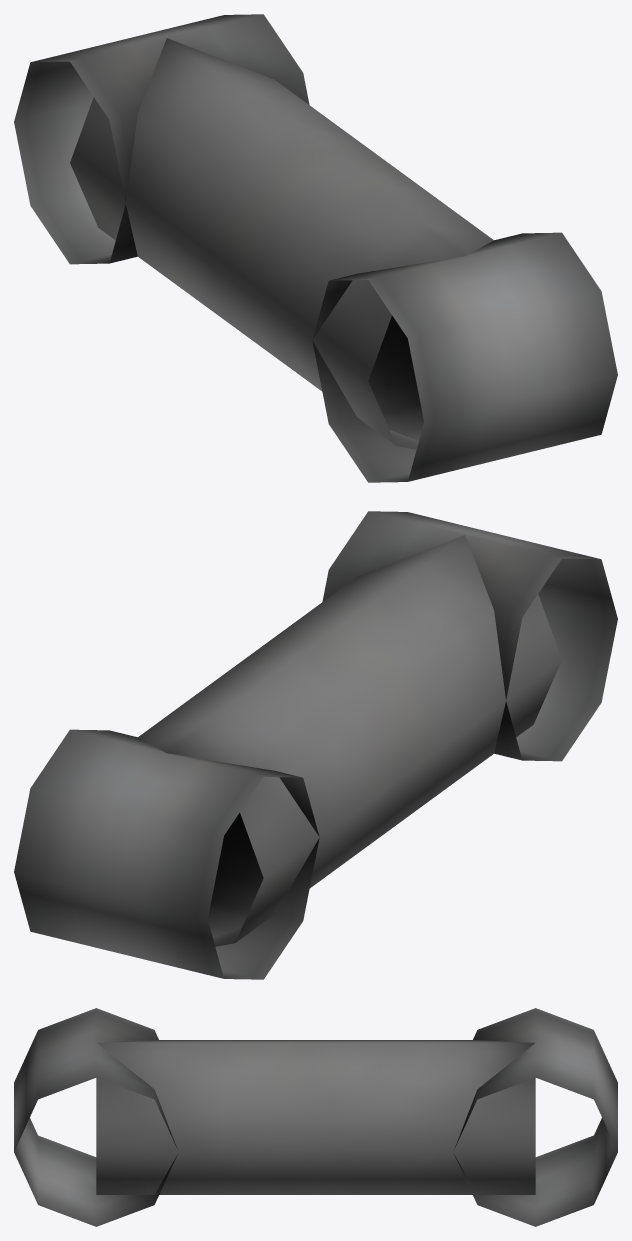
The model's file is narrow arm.obj.
3 views of the same model, one above another, from view 1: azimuth 30°, elevation 25°; view 2: azimuth 150°, elevation 25°; view 3: azimuth 270°, elevation 25° (orthographic). The views are drawn at different scales.
Parts seen in each view (by area): view 1: arm; view 2: arm; view 3: arm.
Boxes of the visible parts, bbox=[...] form: arm: bbox=[14, 14, 617, 482]; arm: bbox=[14, 511, 617, 979]; arm: bbox=[14, 1008, 617, 1226].
Size of the model in its own units: 0.0375 by 0.0375 by 0.1375.
Materials: 1 (1 with a texture image).
